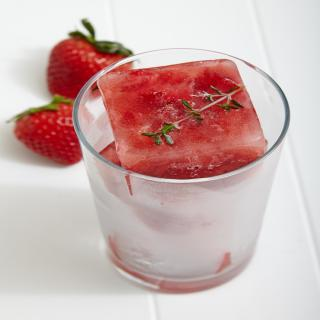Strawberry: (44, 15, 145, 108), (13, 102, 82, 166)
